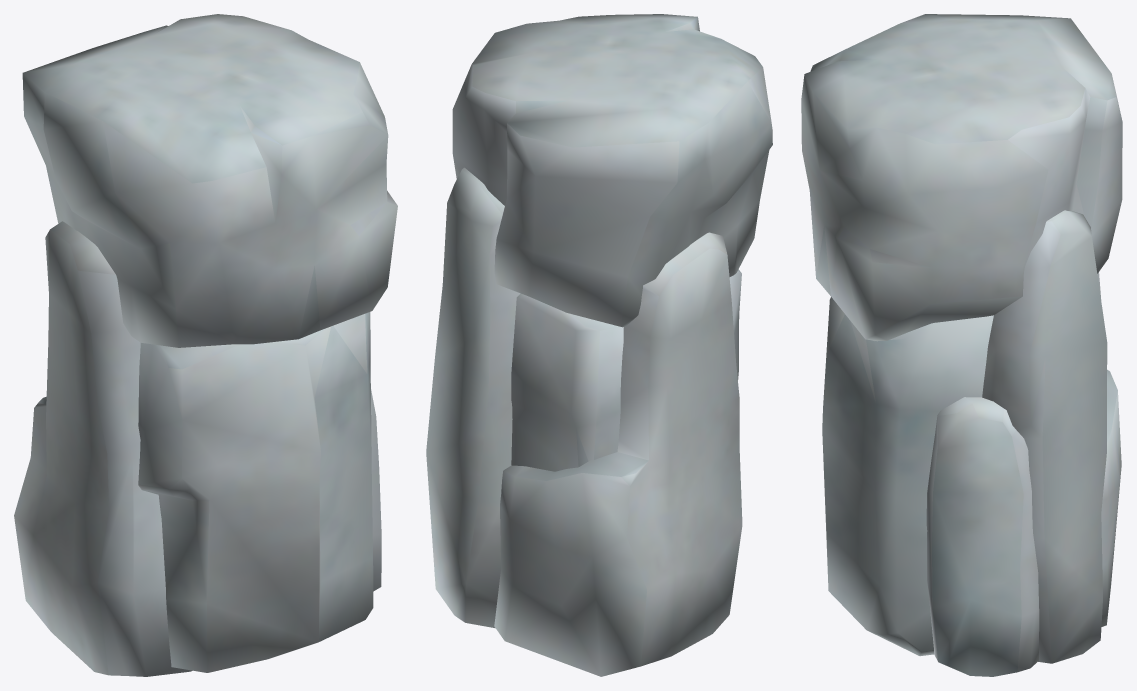
Rendered from P_RockSpire_Spire08.obj.
The picture shows the model from 3 angles, left to right: view 1: azimuth 30°, elevation 25°; view 2: azimuth 150°, elevation 25°; view 3: azimuth 270°, elevation 25°; orthographic projection. The views are drawn at different scales.
Size of the model in its own units: 40.97 by 76.89 by 40.15.
